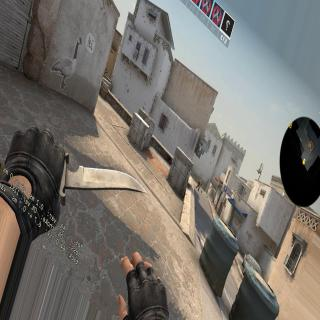CT-Body: (196, 180, 202, 192), (104, 67, 108, 75)
CT-Head: (105, 68, 107, 70), (200, 180, 201, 182)
